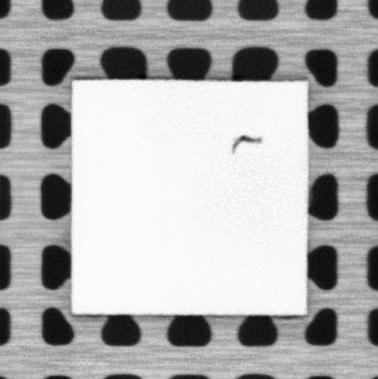DIE_INK: (229, 132, 263, 155)
